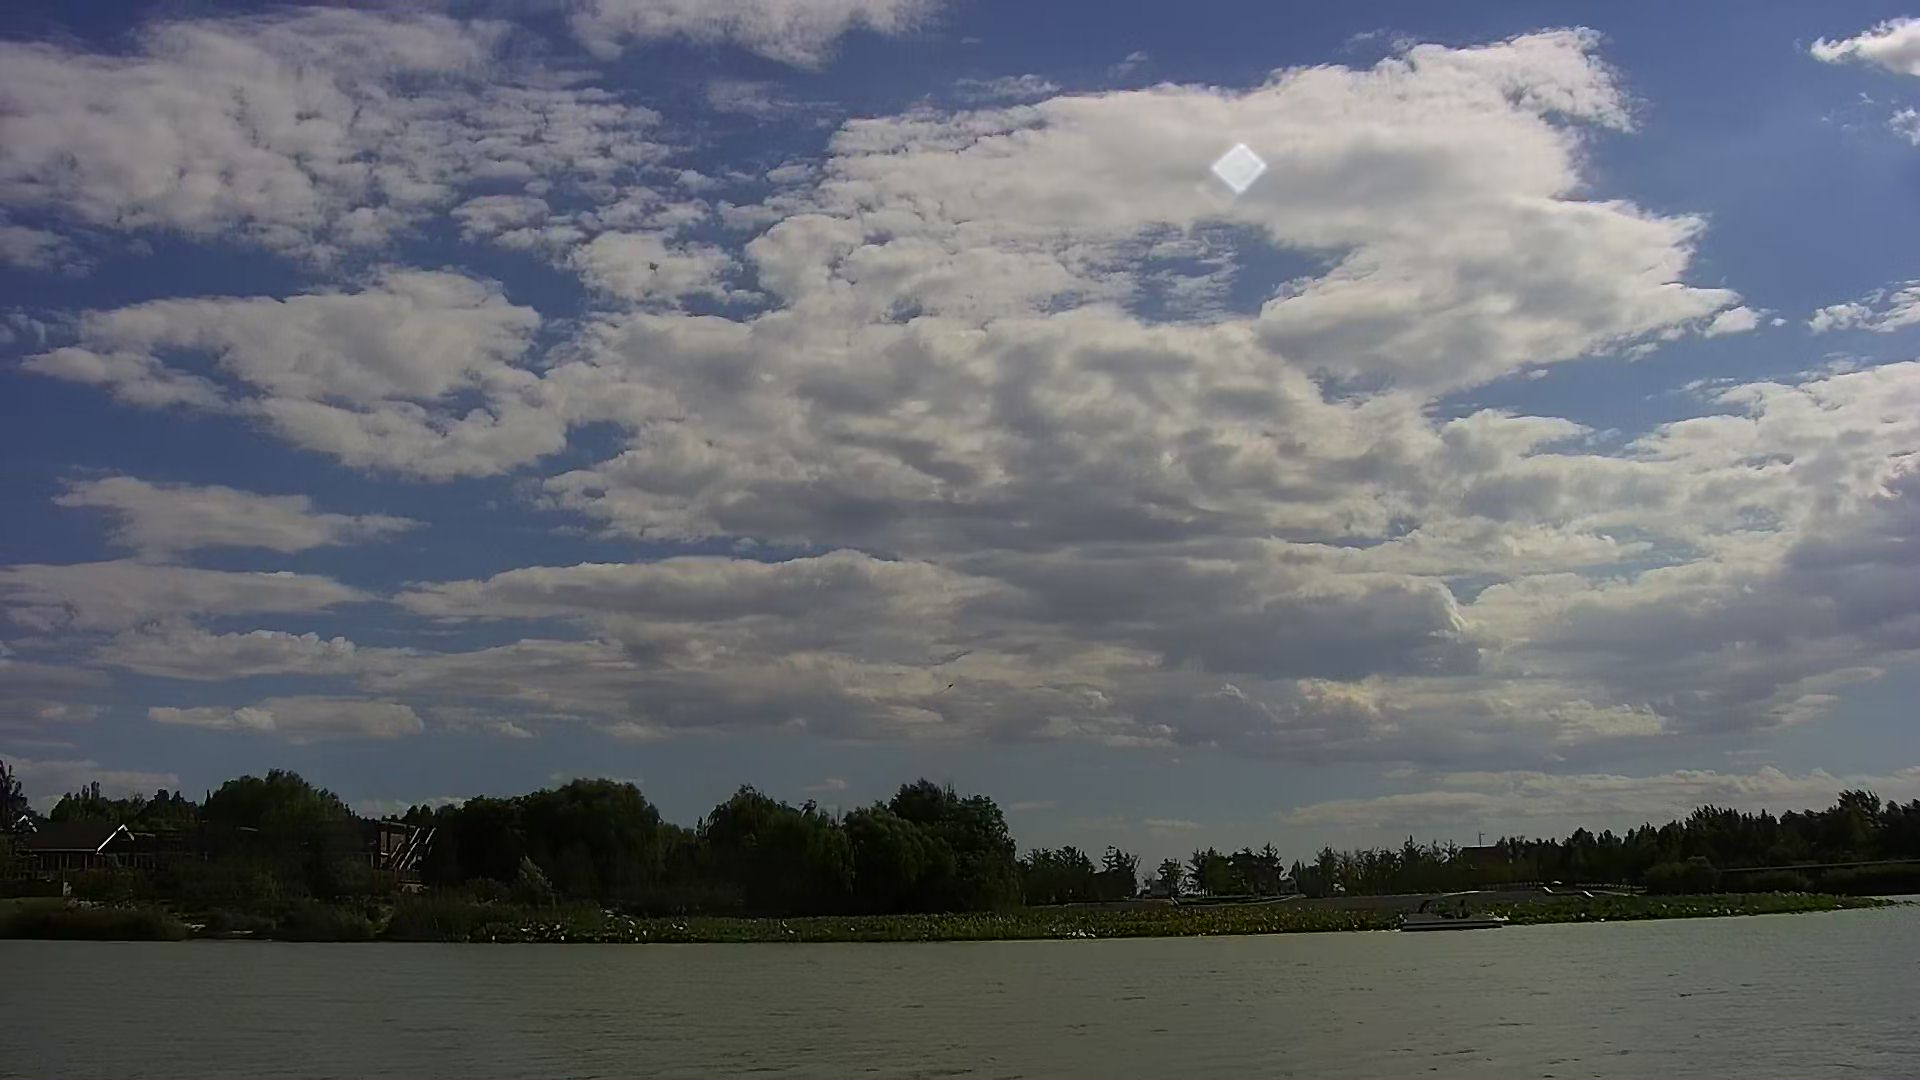boat: (1390, 885, 1516, 939)
